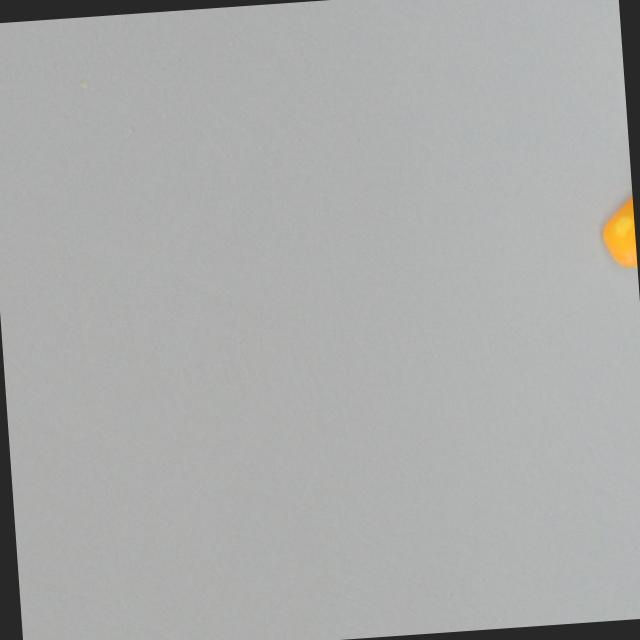punto_negro: (597, 188, 638, 280)
